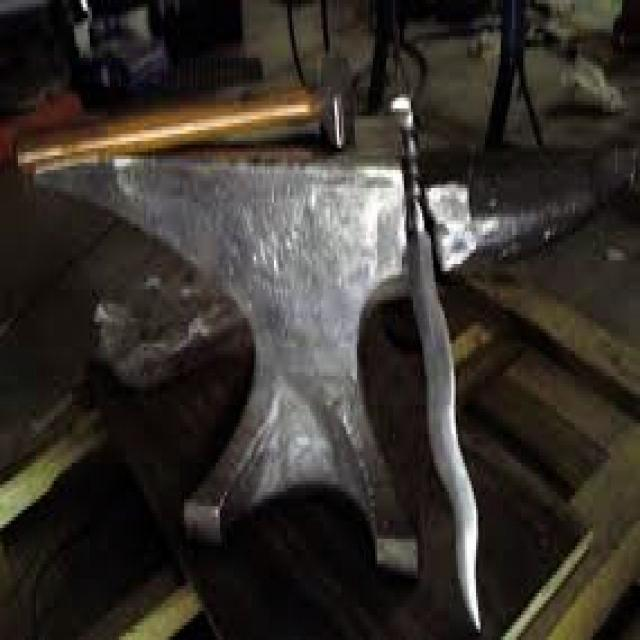hammer: (9, 42, 362, 165)
